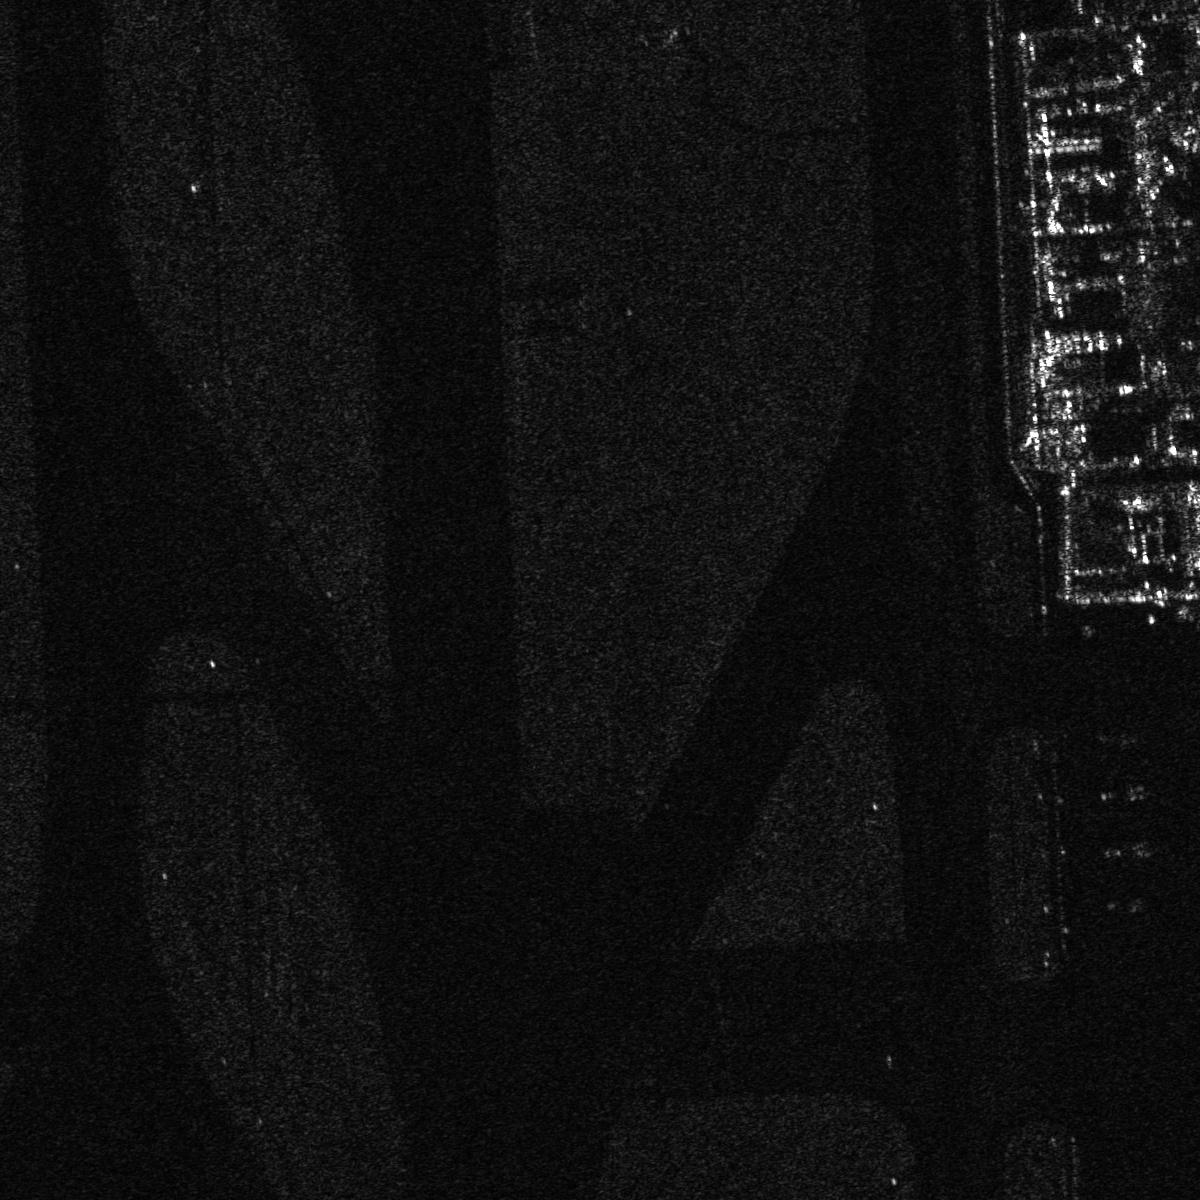ARJ21: (1093, 837, 1163, 866), (1101, 890, 1155, 919)
other: (1096, 775, 1157, 810)
